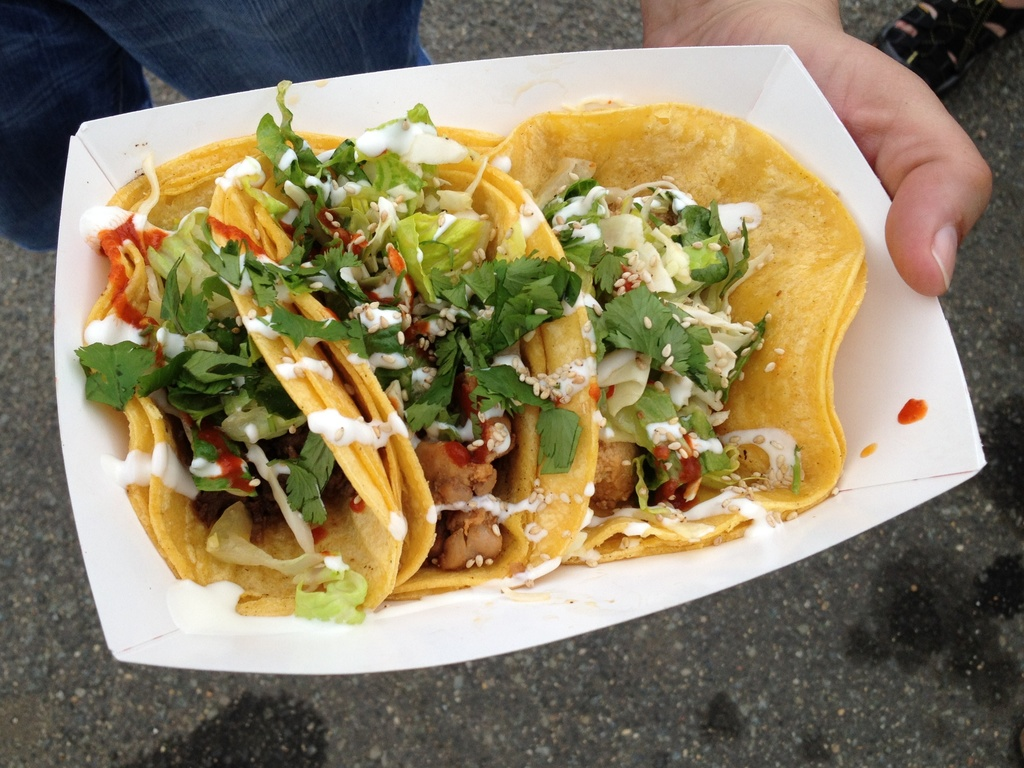taco: (92, 130, 452, 620), (485, 100, 868, 549), (284, 162, 618, 605)
